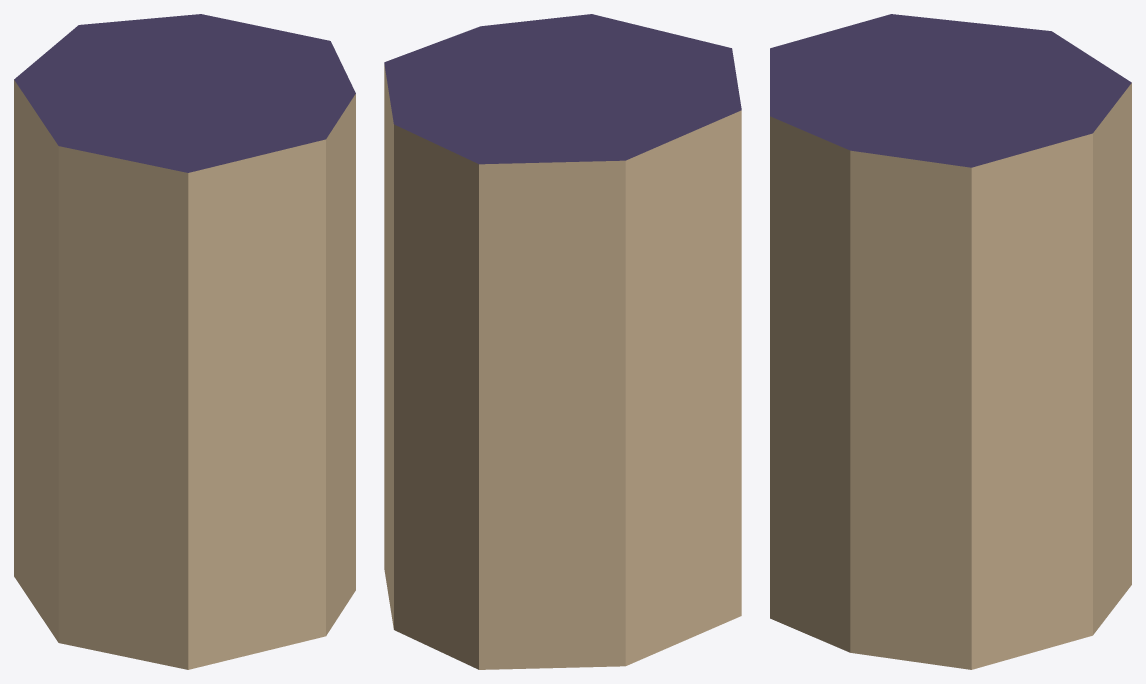
Rendered from b-022-day.glb.
3 renders of one model, left to right at view 1: azimuth 30°, elevation 25°; view 2: azimuth 150°, elevation 25°; view 3: azimuth 270°, elevation 25°, orthographic.
Visible parts, largest first — view 1: campus/b-022-day-0; view 2: campus/b-022-day-0; view 3: campus/b-022-day-0.
Part boxes in pixels (x1,y1,x2,y2): campus/b-022-day-0: [14, 14, 355, 669]; campus/b-022-day-0: [384, 14, 741, 669]; campus/b-022-day-0: [770, 14, 1131, 669].
Bounding box in the file's own units: 1.97 × 3 × 1.96.
